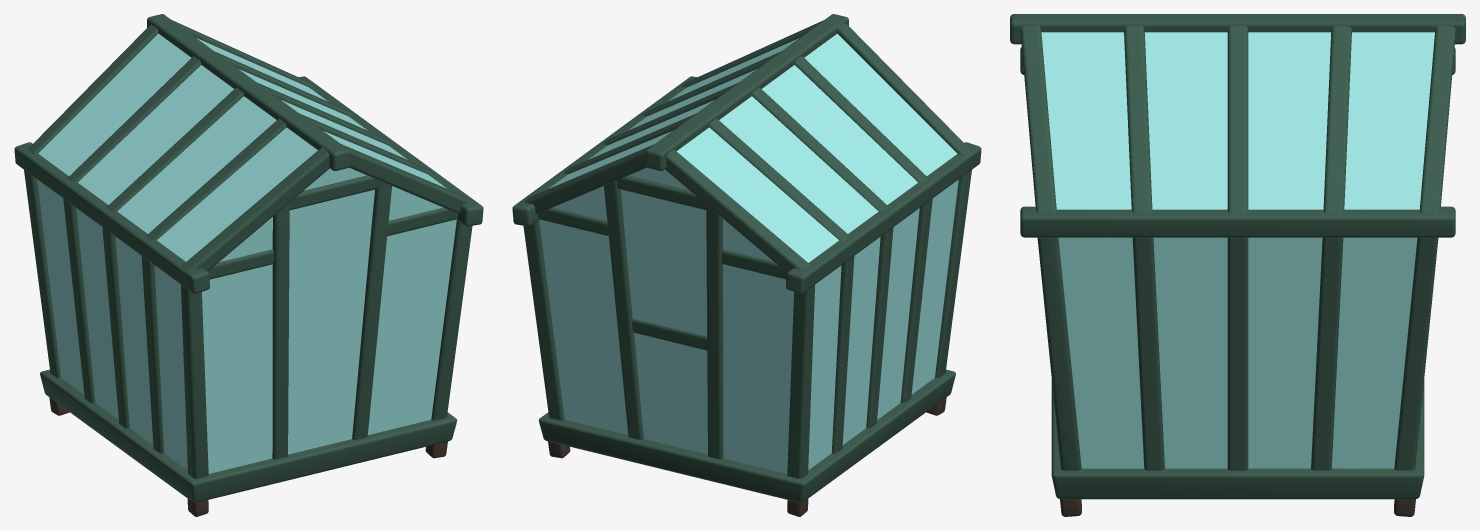
File: GreenHouse.fbx
3 renders of one model, left to right at view 1: azimuth 30°, elevation 25°; view 2: azimuth 150°, elevation 25°; view 3: azimuth 270°, elevation 25°, orthographic. The views are drawn at different scales.
Visible parts, largest first — view 1: Cube.002; view 2: Cube.002; view 3: Cube.002.
Part boxes in pixels (x1=…): Cube.002: x1=14, y1=14, x2=483, y2=516; Cube.002: x1=512, y1=14, x2=981, y2=516; Cube.002: x1=1010, y1=14, x2=1465, y2=516.
Bounding box in the file's own units: 197 × 227 × 220.
